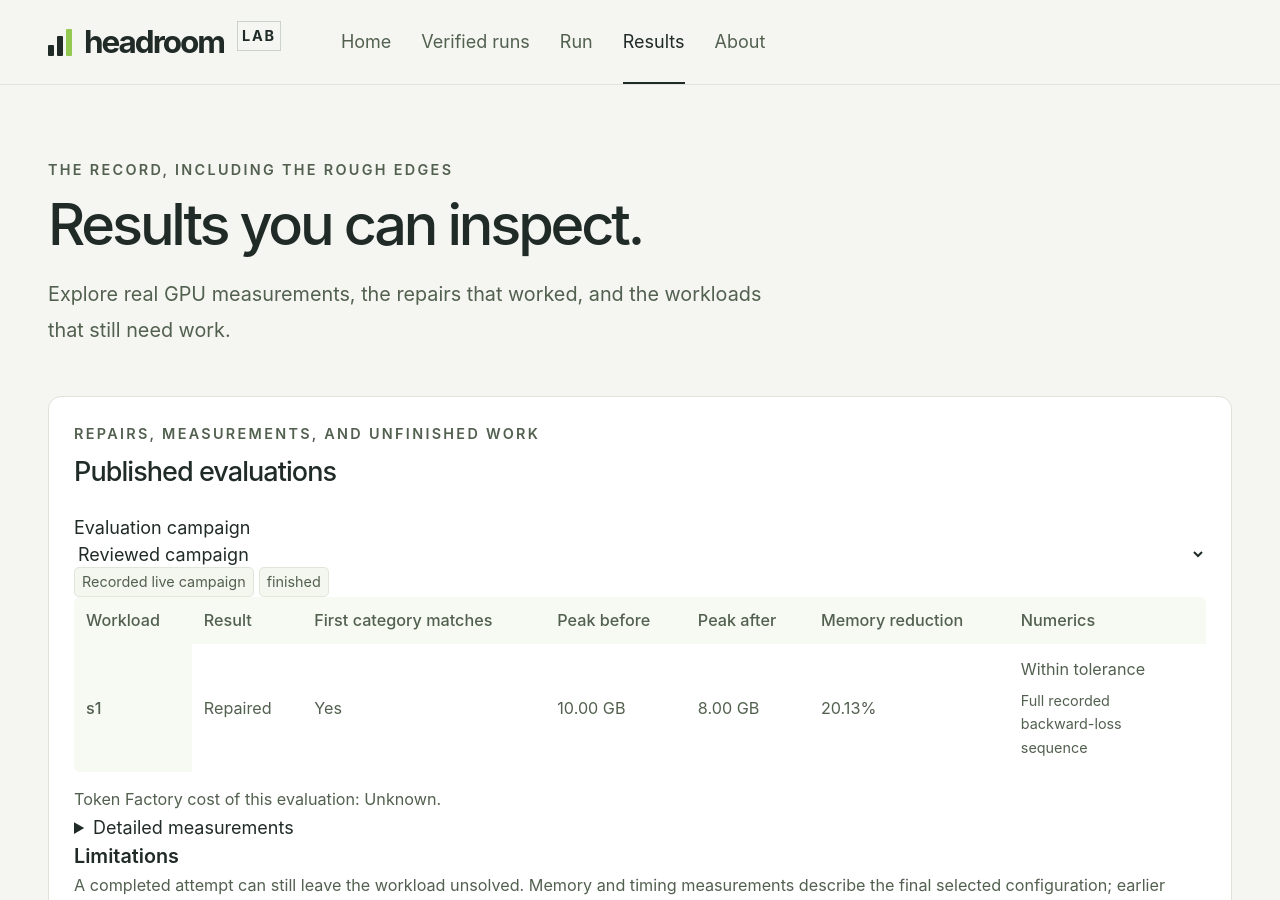
Test: recorded patch and completion outcomes › keeps missing or malformed outcomes Unknown instead of deriving them from success (null)
The image size is (1280, 900).
Click the heading "Detailed measurements" at (193, 827), box [93, 817, 294, 838]
(page scrolled)
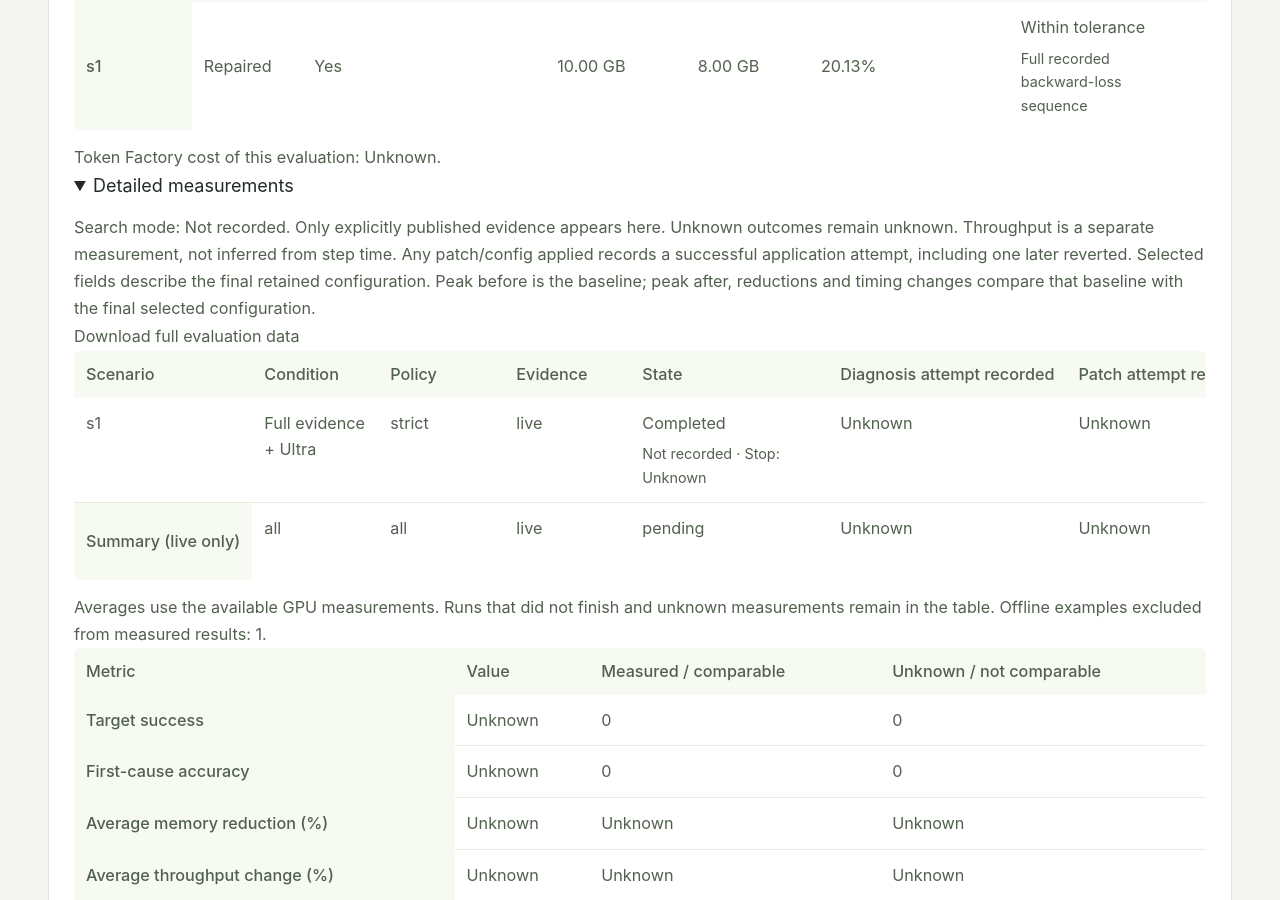
Expected: the 1st cell "Unknown" is shown, [828, 398, 1066, 502]
